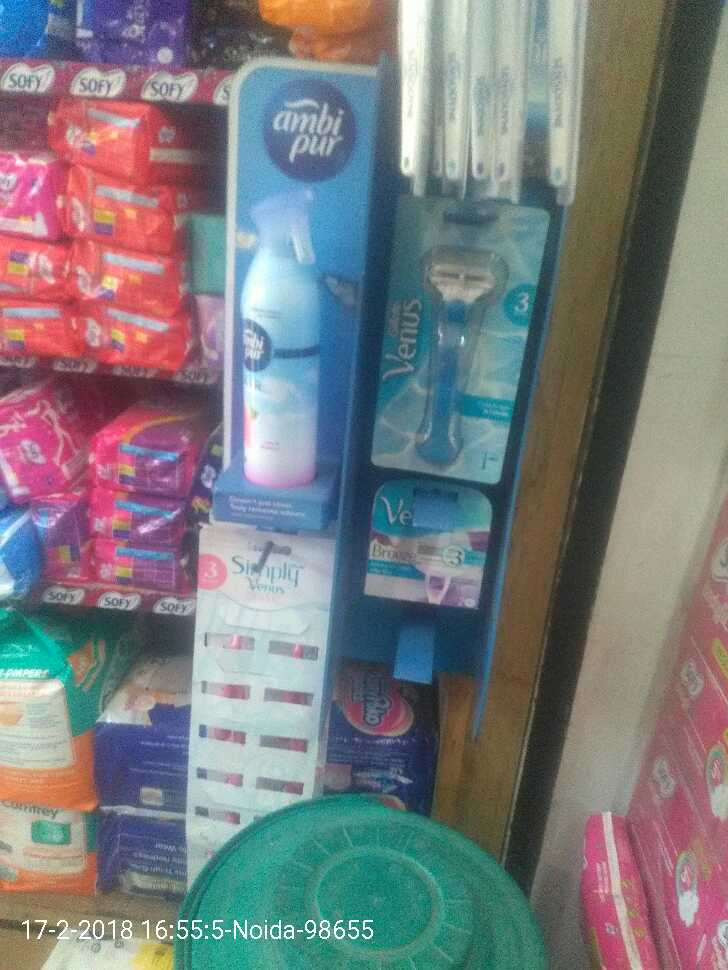beauty: (383, 194, 519, 490), (364, 478, 492, 612)
home: (220, 182, 336, 487)
